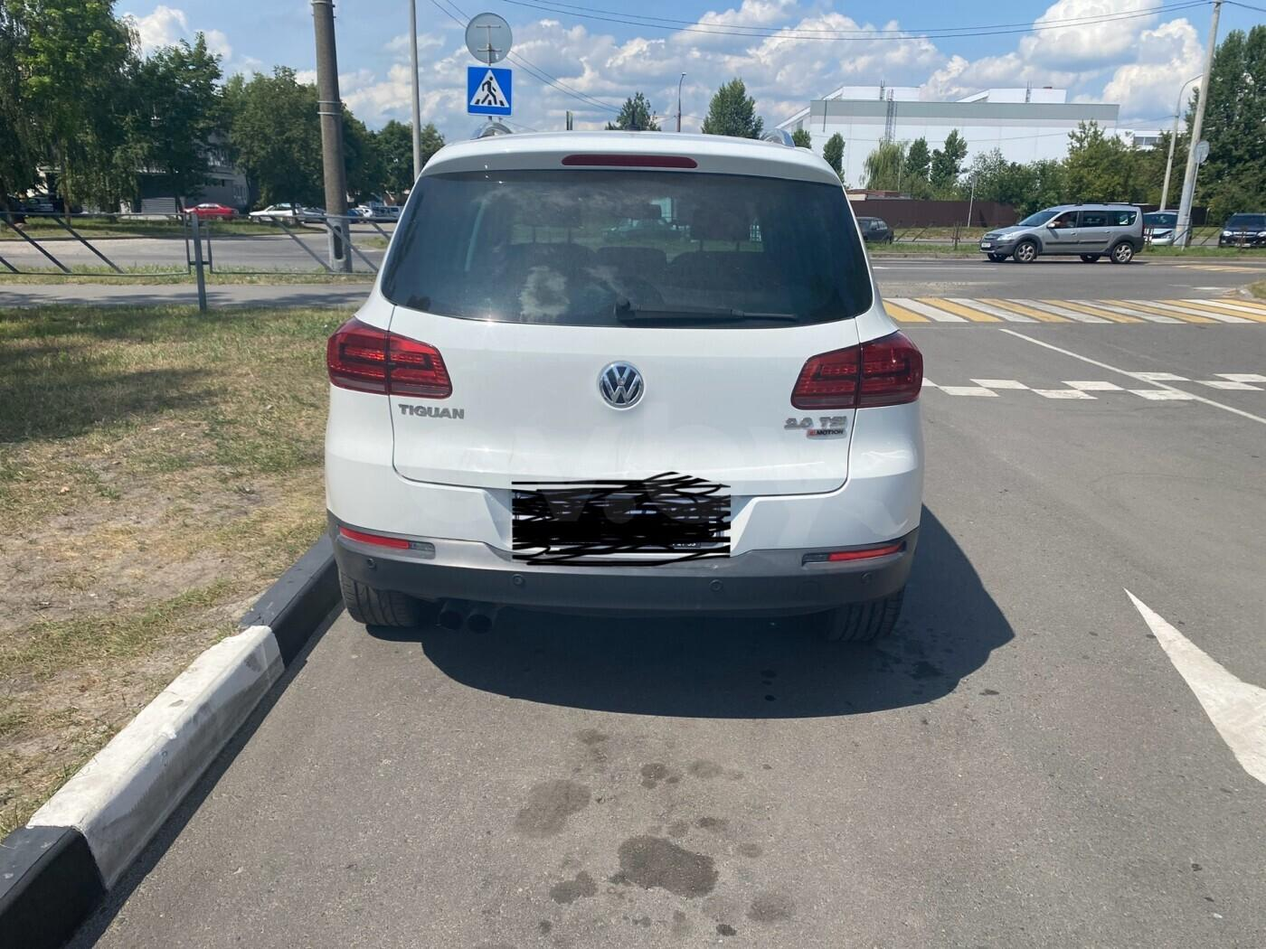Tiguan_2011-2018: (320, 125, 925, 652)
